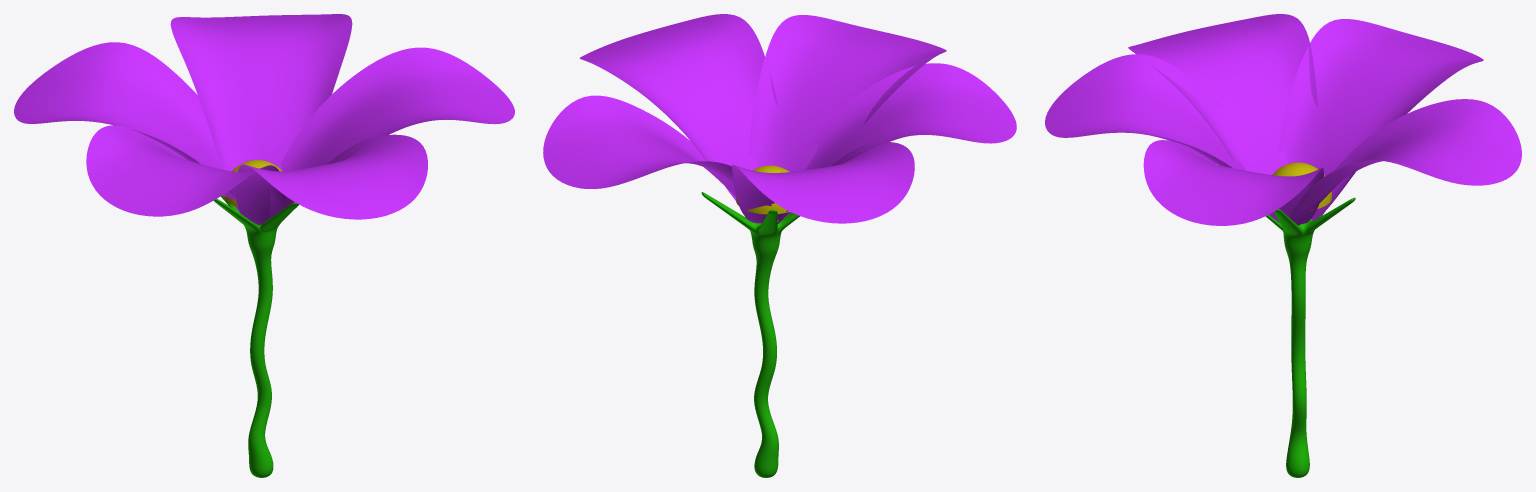
Rendered from Purple flower.fbx.
3 renders of one model, left to right at view 1: azimuth 30°, elevation 25°; view 2: azimuth 150°, elevation 25°; view 3: azimuth 270°, elevation 25°, orthographic.
Visible parts, largest first — view 1: Purple flower; view 2: Purple flower; view 3: Purple flower.
Boxes of the visible parts, bbox=[...] form: Purple flower: bbox=[14, 14, 514, 477]; Purple flower: bbox=[543, 14, 1016, 477]; Purple flower: bbox=[1045, 14, 1521, 477].
Size of the model in its own units: 479 by 430 by 489.
